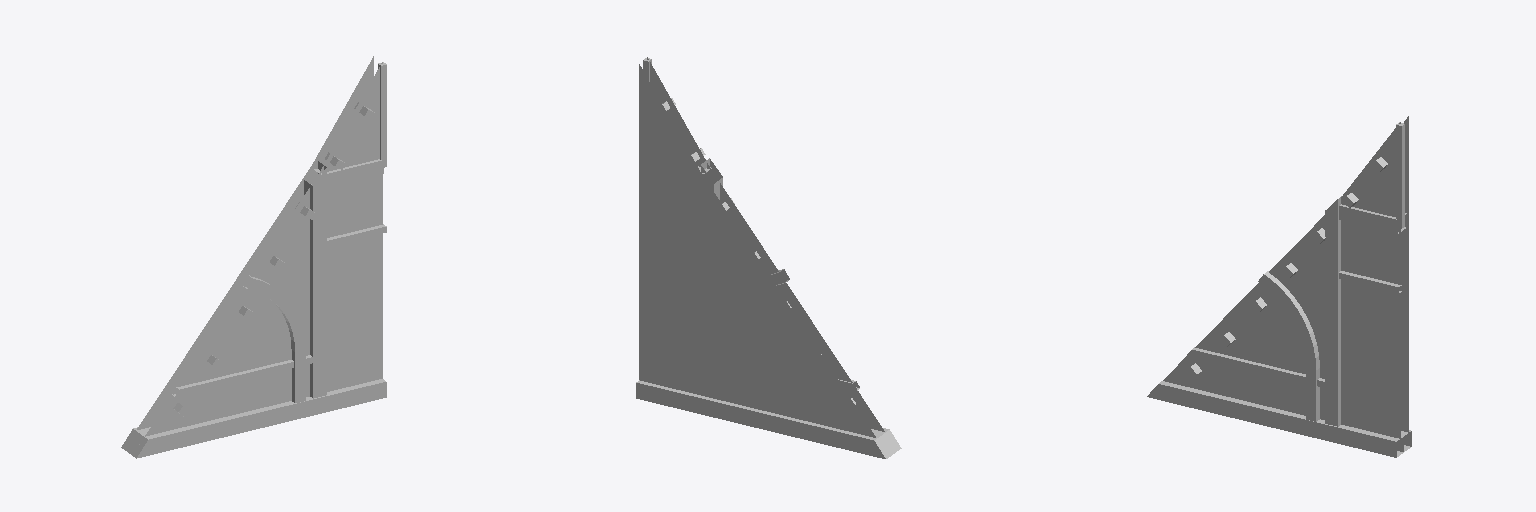
The model's file is Roof_Front_Brick8_Half_L.obj.
3 views of the same model, side by side, from view 1: azimuth 30°, elevation 25°; view 2: azimuth 150°, elevation 25°; view 3: azimuth 330°, elevation 25° (orthographic).
Parts seen in each view (by area): view 1: Roof_Front_Brick8_Half_L; view 2: Roof_Front_Brick8_Half_L; view 3: Roof_Front_Brick8_Half_L.
Part boxes in pixels (left/top/right/bottom): Roof_Front_Brick8_Half_L: left=121, top=56, right=386, bottom=458; Roof_Front_Brick8_Half_L: left=636, top=57, right=901, bottom=458; Roof_Front_Brick8_Half_L: left=1147, top=116, right=1411, bottom=457.
Size of the model in its own units: 4.33 by 5.45 by 0.4896.